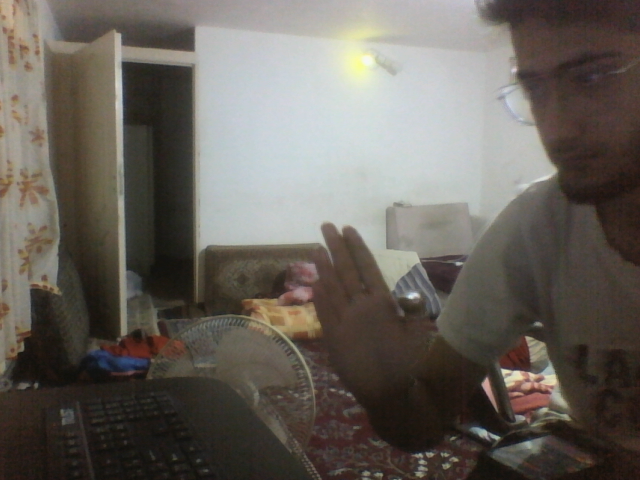sorat: (498, 1, 634, 196)
taslim: (310, 224, 428, 409)
